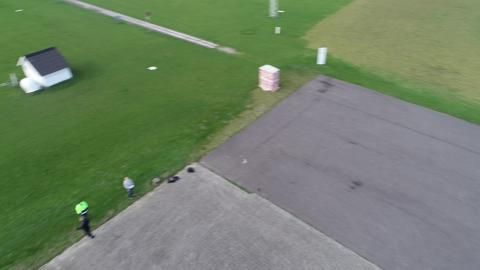RockwoolPallet: (258, 64, 281, 92)
